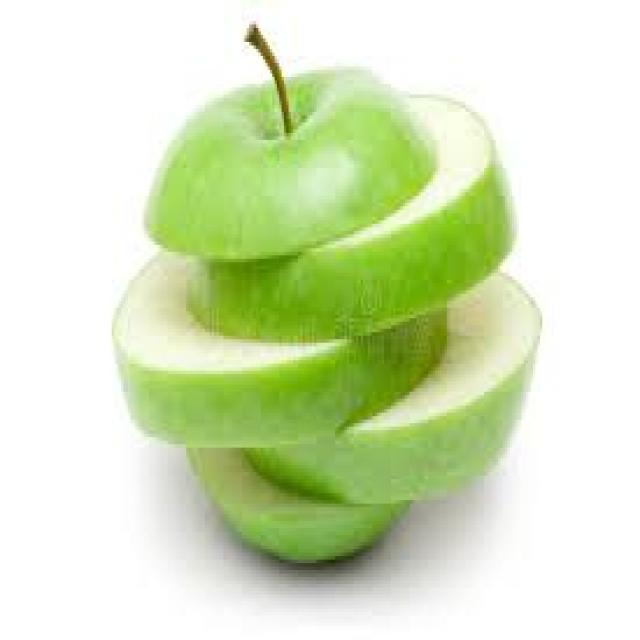Apple: (111, 23, 541, 572)
